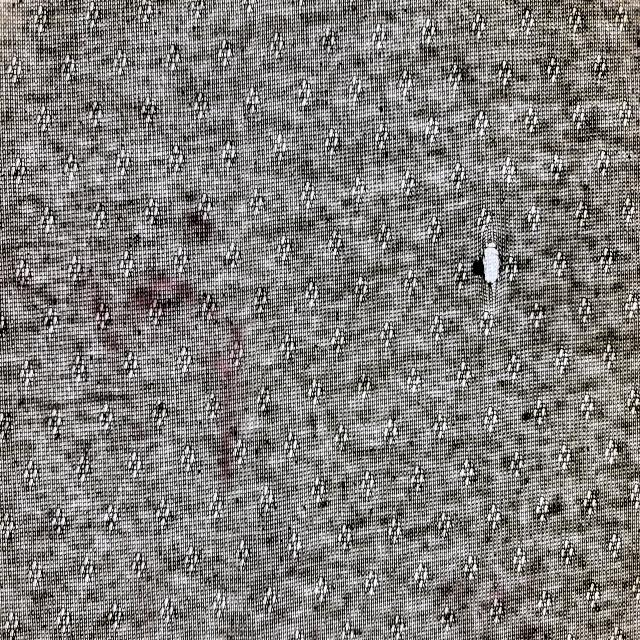Hole: (481, 236, 504, 292)
